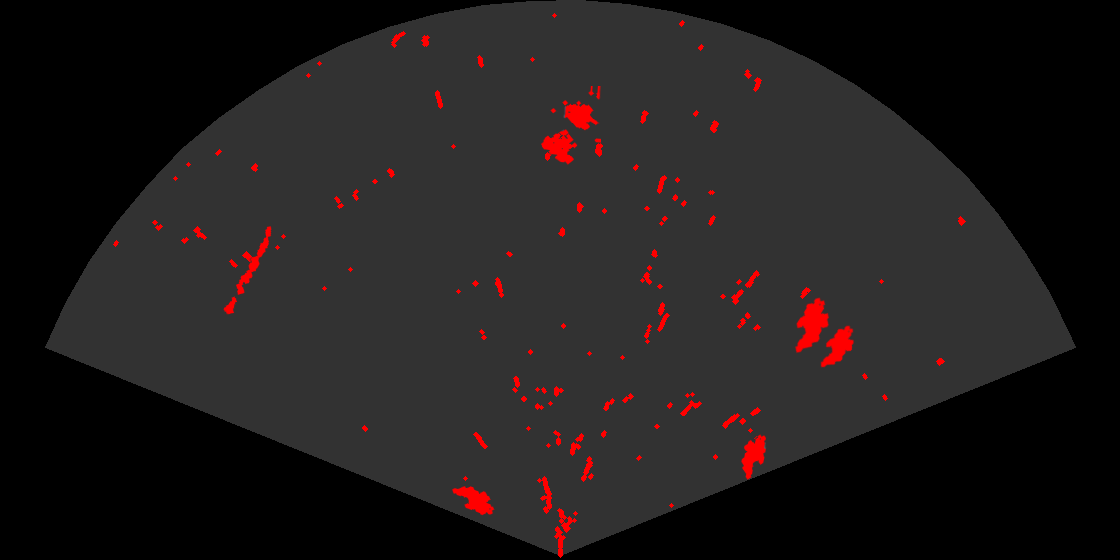AUV: (793, 296, 831, 355), (819, 324, 856, 369), (451, 485, 496, 517), (740, 433, 768, 481)
cage: (540, 86, 601, 166)
chain: (222, 225, 273, 316)
